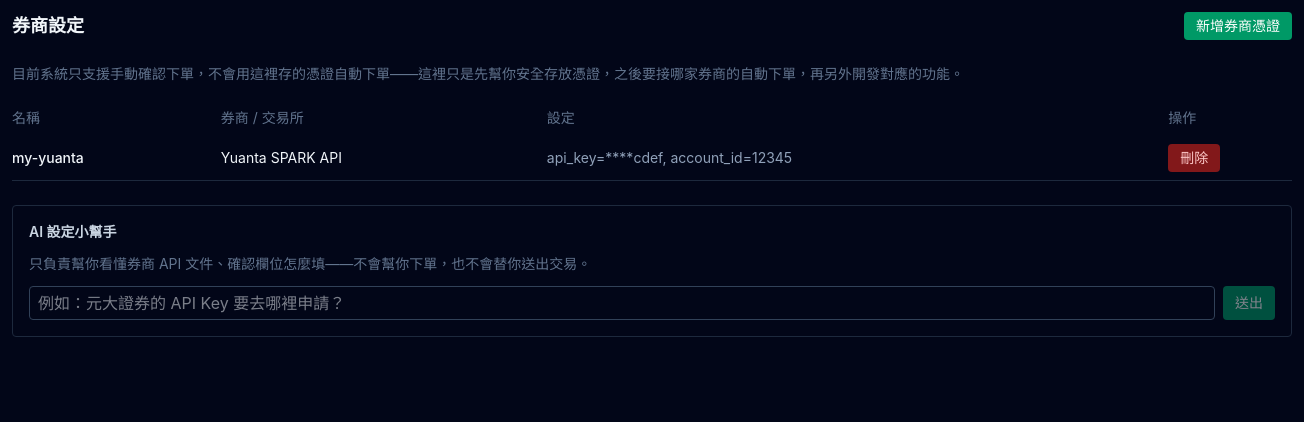
BrokerSettingsPage › shows an error from the AI assistant without crashing
Type "help" into the field named "問題" at (622, 303), box [29,286,1215,320]
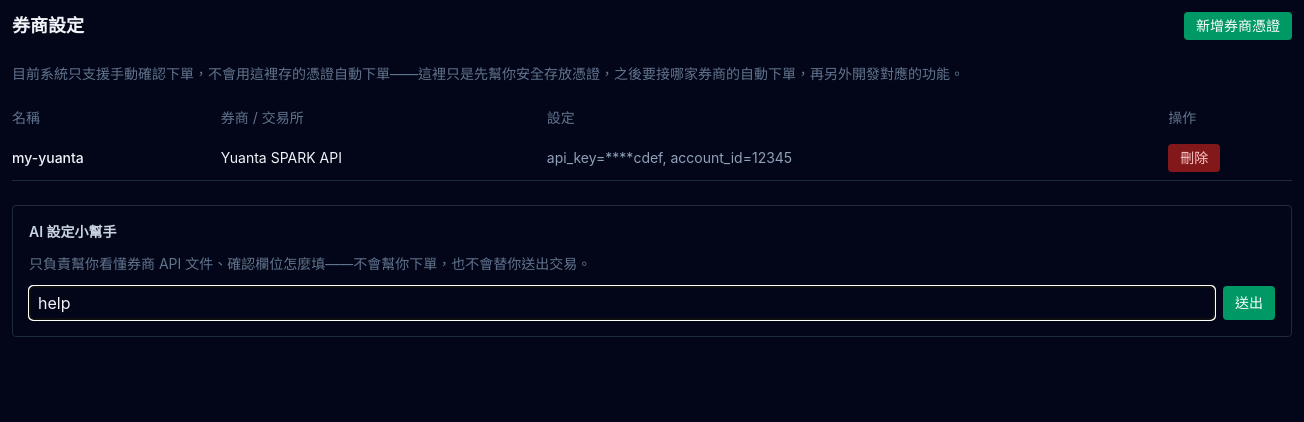
Click the button "送出" at (1249, 303), box [1223,286,1275,320]
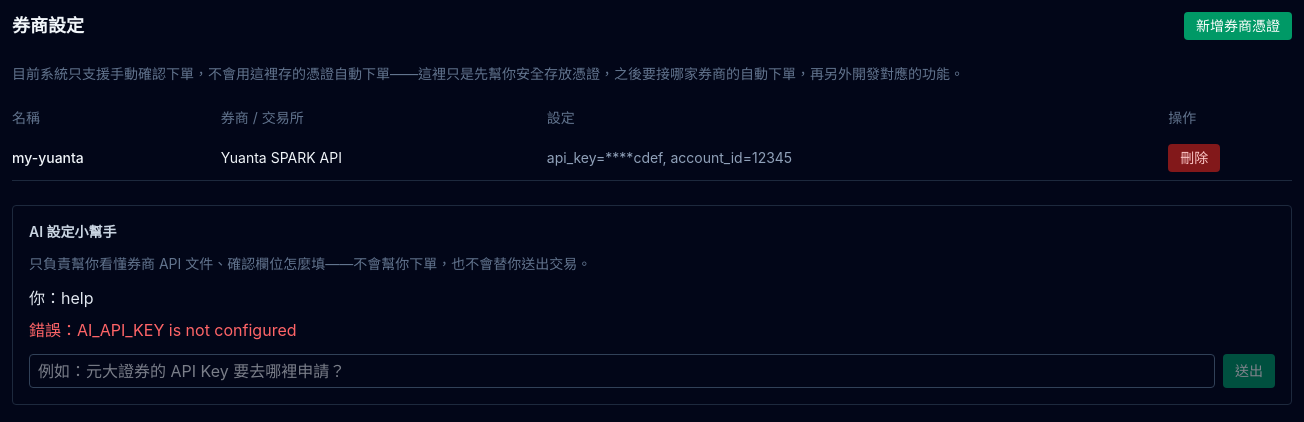
expect the text "錯誤：AI_API_KEY is not configured" is shown: met, box [29,320,296,340]
